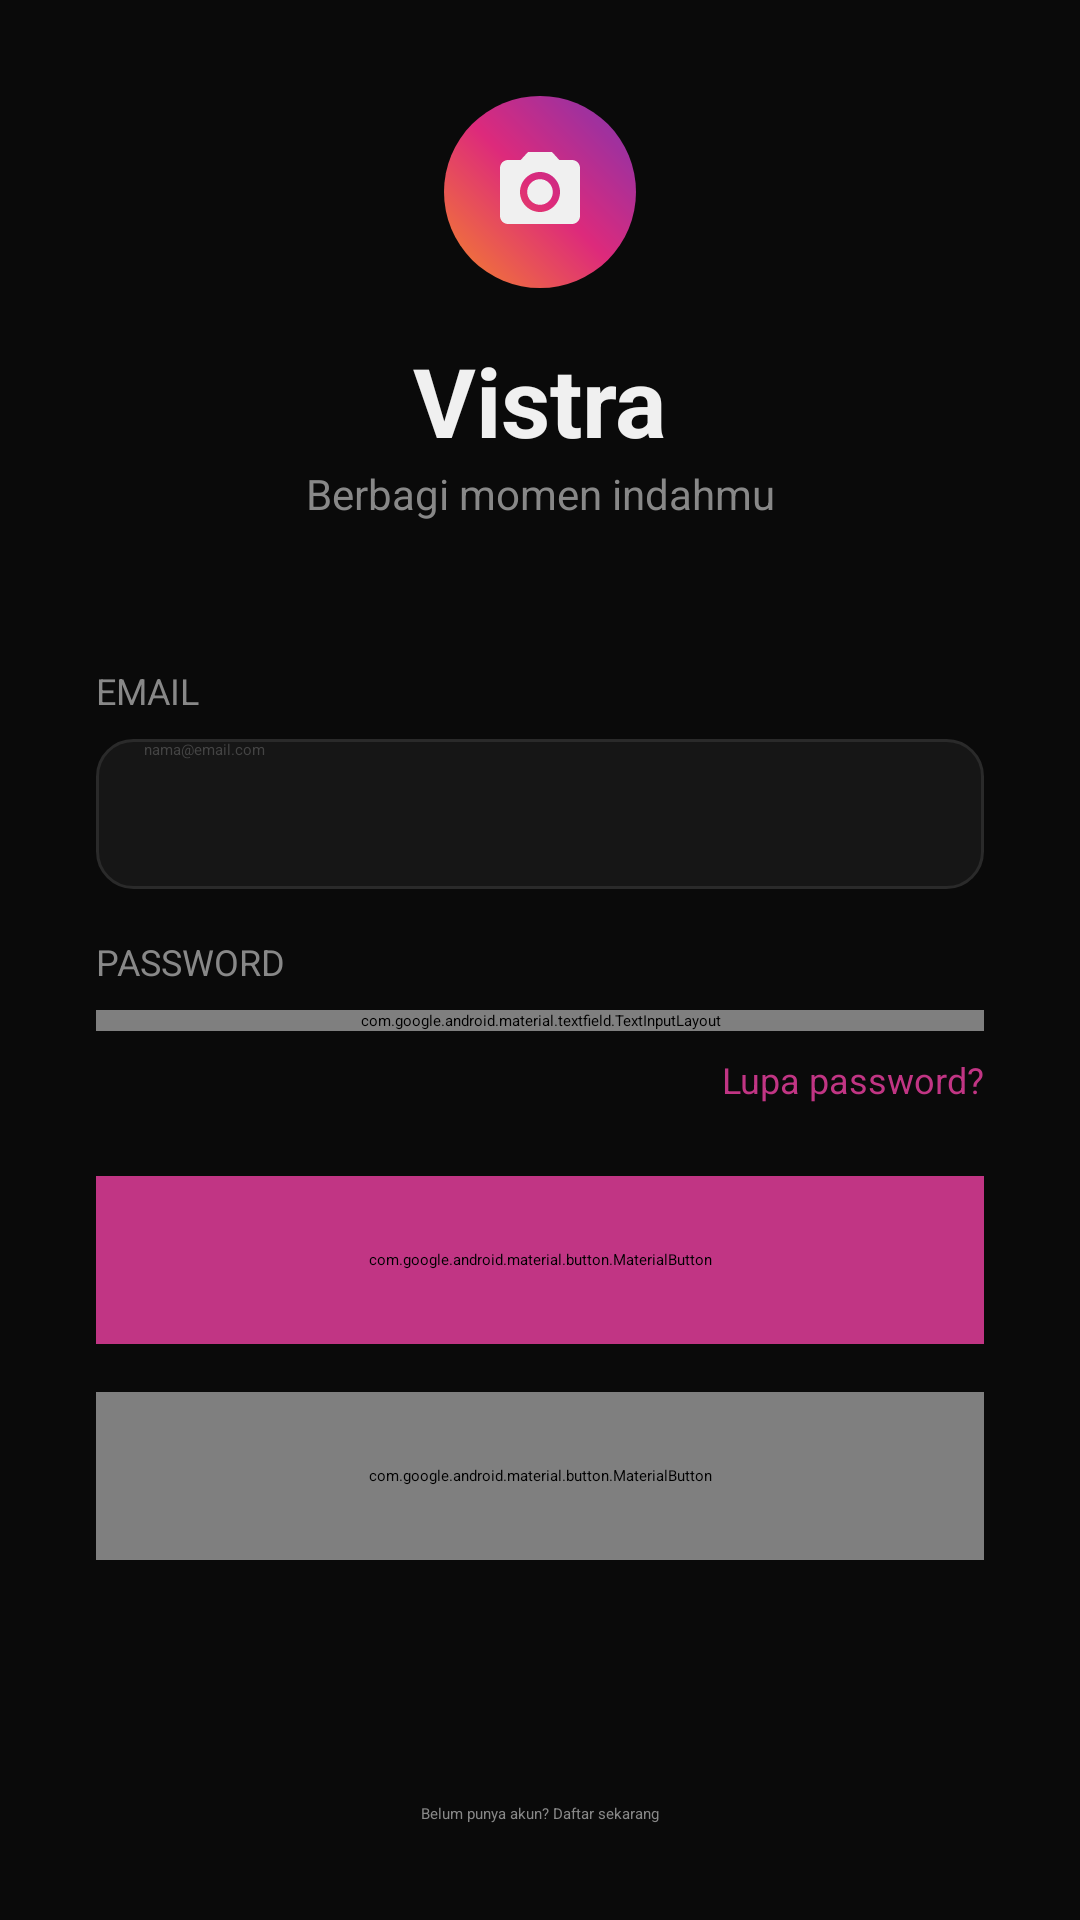

Locate icon controls on the screen. Image size 1080w x 1920h, boxes as rect(x1, y1, x2, y2).
camera: rect(444, 96, 636, 288)
